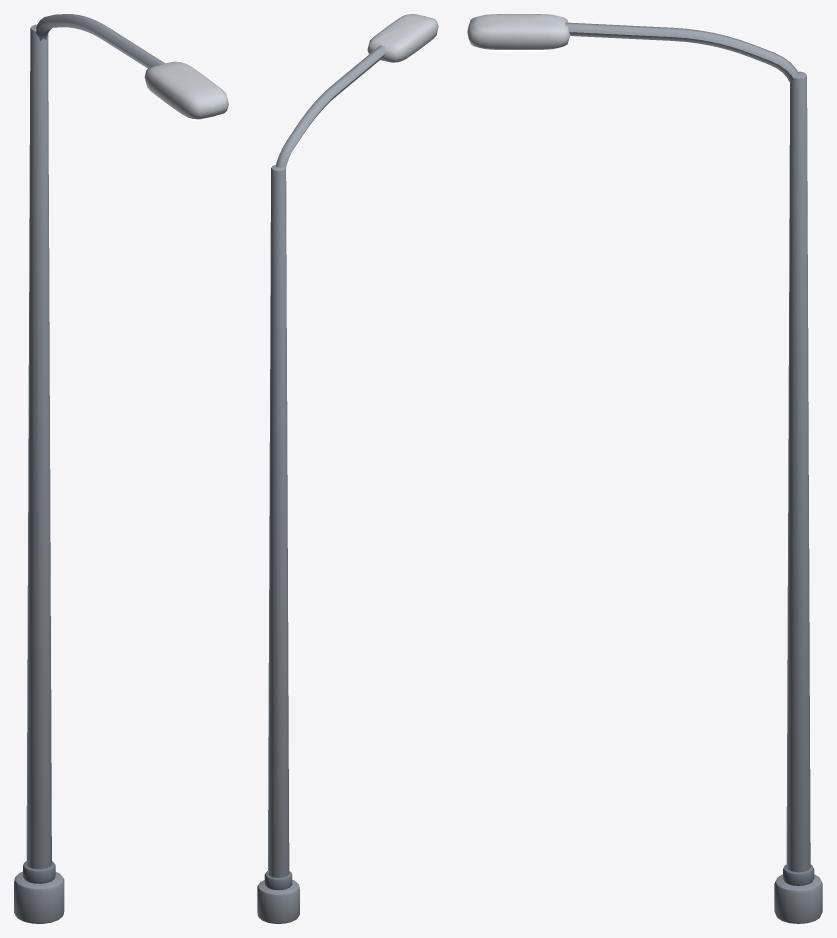
File: poste_rua.glb
The picture shows the model from 3 angles, left to right: view 1: azimuth 30°, elevation 25°; view 2: azimuth 150°, elevation 25°; view 3: azimuth 270°, elevation 25°; orthographic projection. The views are drawn at different scales.
Visible parts, largest first — view 1: poste_rua; view 2: poste_rua; view 3: poste_rua.
Boxes of the visible parts, left/top/right/bottom form: poste_rua: left=14, top=14, right=228, bottom=923; poste_rua: left=257, top=14, right=438, bottom=923; poste_rua: left=467, top=14, right=822, bottom=923.
Bounding box in the file's own units: 0.4 × 8.2 × 2.95.
Materials: 2 (1 with a texture image).
